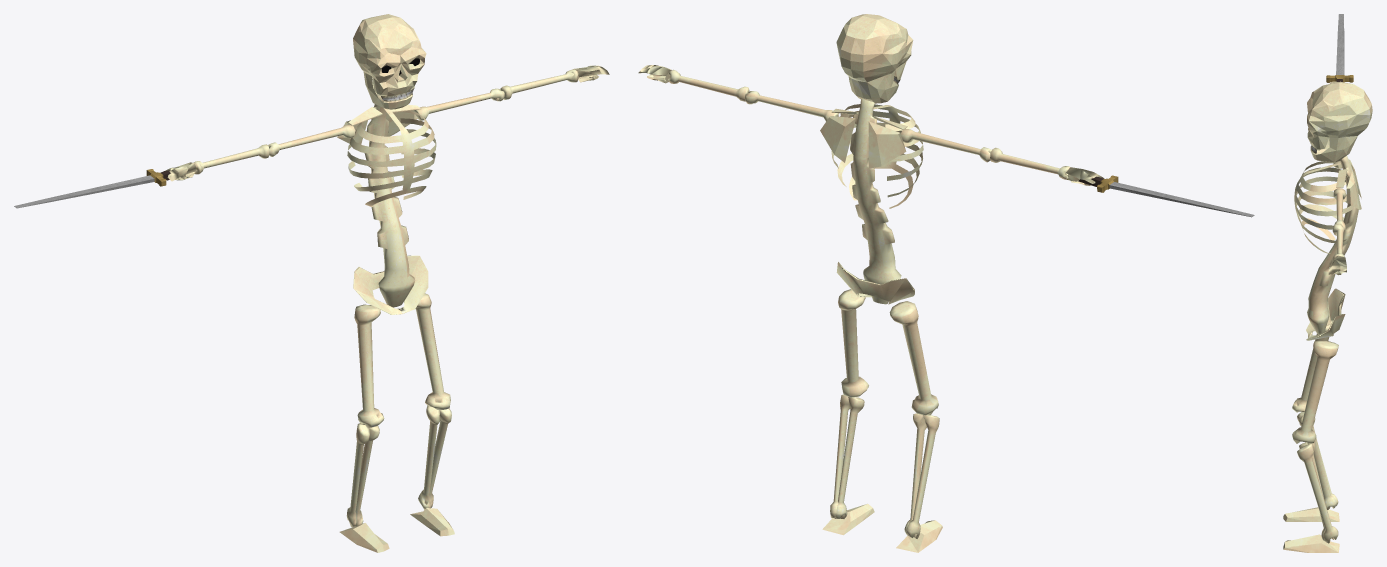
Rendered from skelett_basic_GEO_01.fbx.
The picture shows the model from 3 angles, left to right: view 1: azimuth 30°, elevation 25°; view 2: azimuth 150°, elevation 25°; view 3: azimuth 270°, elevation 25°; orthographic projection. The views are drawn at different scales.
Parts seen in each view (by area): view 1: skelett_basic_GEO_01; view 2: skelett_basic_GEO_01; view 3: skelett_basic_GEO_01.
Part boxes in pixels (left/top/right/bottom): skelett_basic_GEO_01: left=14, top=14, right=609, bottom=552; skelett_basic_GEO_01: left=638, top=14, right=1254, bottom=552; skelett_basic_GEO_01: left=1283, top=14, right=1372, bottom=552.
Size of the model in its own units: 6.56 by 5.35 by 0.9693.
Materials: 6 (6 with a texture image).
